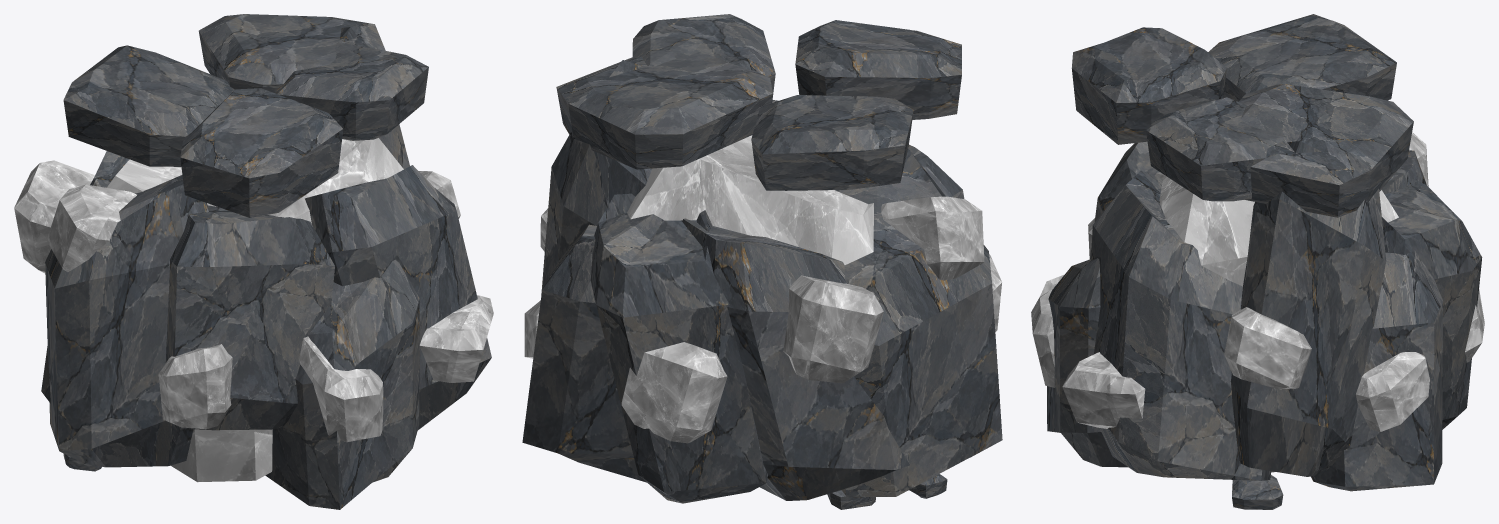
The model's file is Ore_Y4.fbx.
3 renders of one model, left to right at view 1: azimuth 30°, elevation 25°; view 2: azimuth 150°, elevation 25°; view 3: azimuth 270°, elevation 25°, orthographic. The views are drawn at different scales.
Visible parts, largest first — view 1: Ore_Y4_LOD0; view 2: Ore_Y4_LOD0; view 3: Ore_Y4_LOD0.
Part boxes in pixels (x1,y1,x2,y2): Ore_Y4_LOD0: (14,14,493,509); Ore_Y4_LOD0: (522,14,1002,509); Ore_Y4_LOD0: (1031,14,1484,509).
Size of what is drawn, in the model's own units: 1.67 by 1.43 by 1.58.
Materials: 2 (2 with a texture image).
